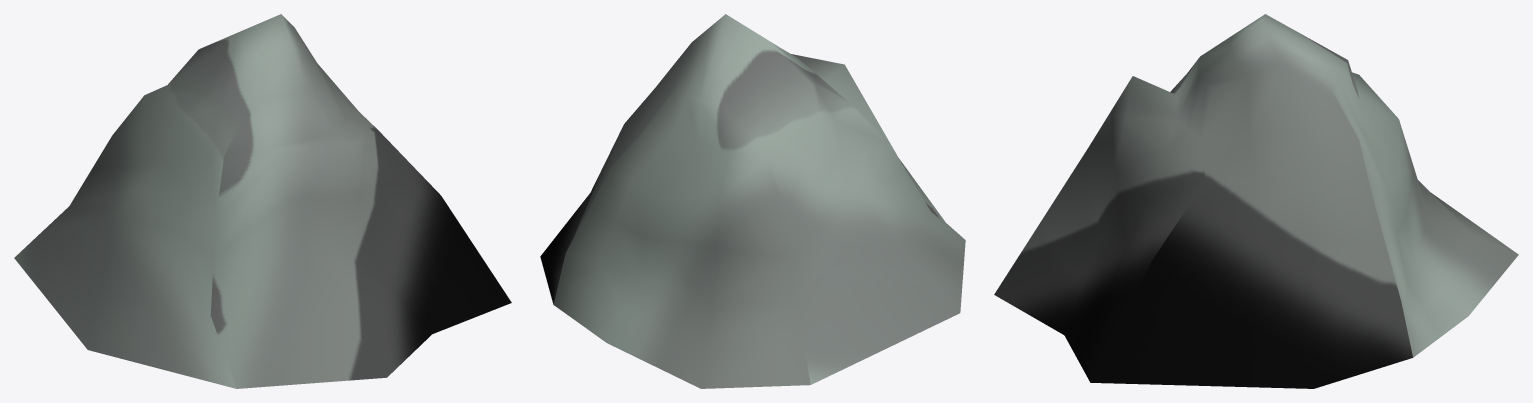
Rendered from Rock_Large_01.fbx.
The picture shows the model from 3 angles, left to right: view 1: azimuth 30°, elevation 25°; view 2: azimuth 150°, elevation 25°; view 3: azimuth 270°, elevation 25°; orthographic projection. The views are drawn at different scales.
Visible parts, largest first — view 1: Rock_Large_01; view 2: Rock_Large_01; view 3: Rock_Large_01.
Boxes of the visible parts, box(x1,y1,x2,y2) form: Rock_Large_01: box(14, 14, 511, 388); Rock_Large_01: box(540, 14, 965, 388); Rock_Large_01: box(994, 14, 1518, 388).
Bounding box in the file's own units: 1597 × 1078 × 1812.
